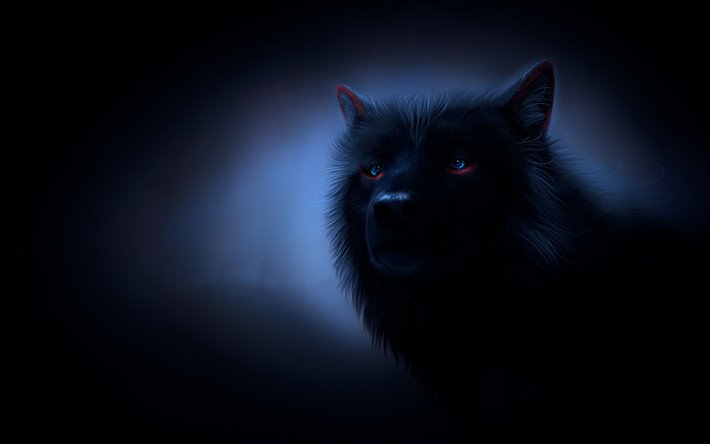Lobo: (297, 52, 608, 349)
